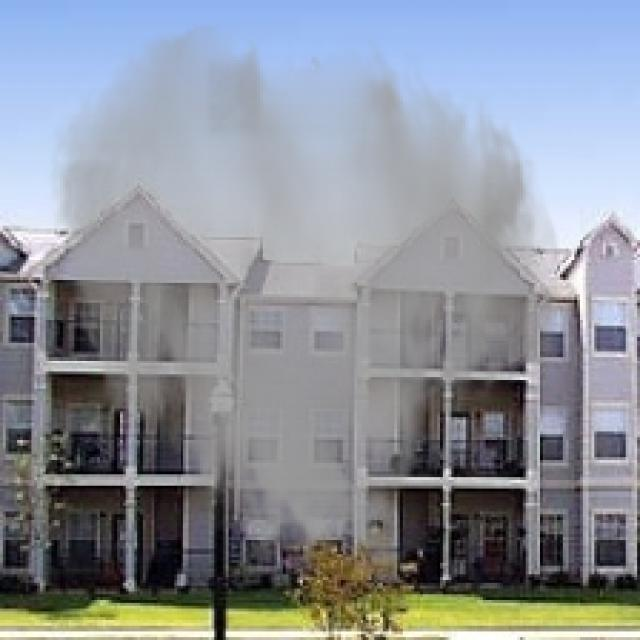smoke: (46, 20, 566, 583)
